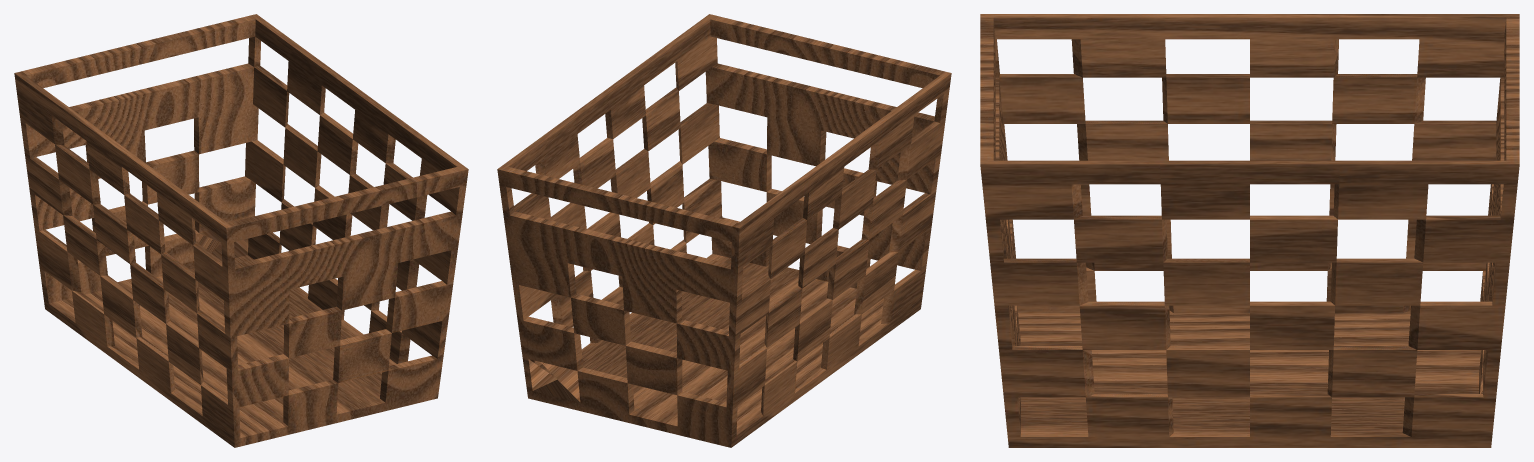
Rendered from cart.fbx.
3 renders of one model, left to right at view 1: azimuth 30°, elevation 25°; view 2: azimuth 150°, elevation 25°; view 3: azimuth 270°, elevation 25°, orthographic. The views are drawn at different scales.
Visible parts, largest first — view 1: Boole; view 2: Boole; view 3: Boole.
Part boxes in pixels (bbox=[...]): Boole: bbox=[14, 14, 468, 447]; Boole: bbox=[497, 14, 951, 447]; Boole: bbox=[980, 14, 1519, 447].
Size of the model in its own units: 184 by 169 by 279.
Materials: 1 (1 with a texture image).
